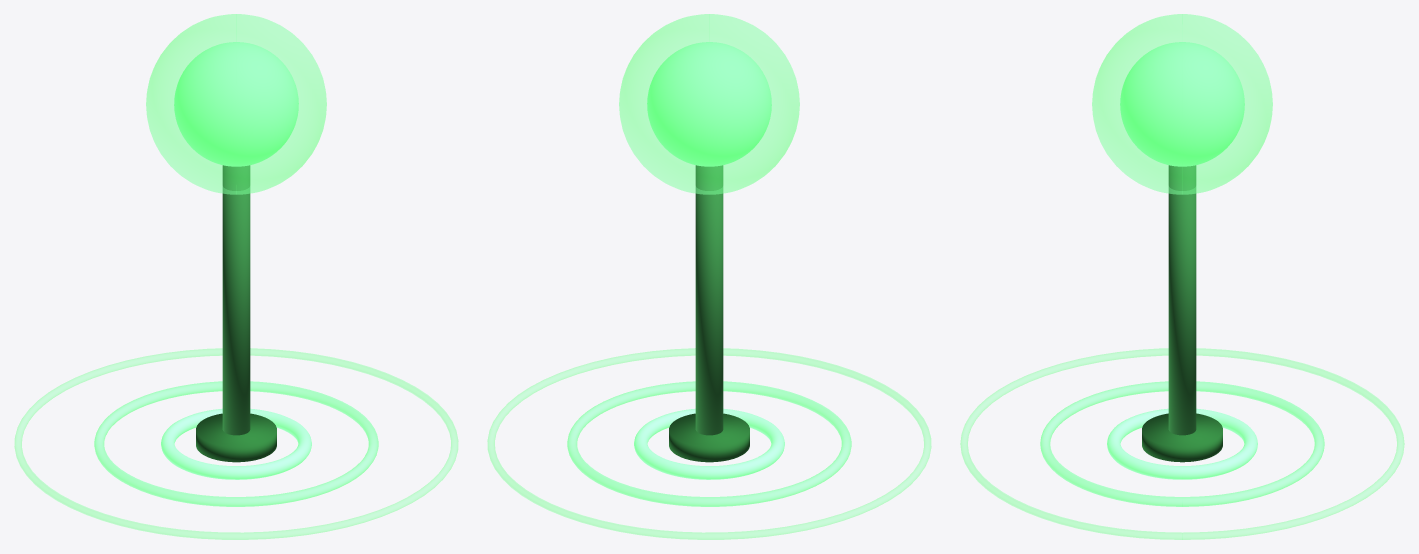
The model's file is map-pin-green.glb.
3 renders of one model, left to right at view 1: azimuth 30°, elevation 25°; view 2: azimuth 150°, elevation 25°; view 3: azimuth 270°, elevation 25°, orthographic.
Parts seen in each view (by area): view 1: Glow, Cap, Pulse2, Column, Pulse1, Pulse0, Base; view 2: Glow, Cap, Pulse2, Column, Pulse1, Pulse0, Base; view 3: Glow, Cap, Pulse2, Column, Pulse1, Pulse0, Base.
Boxes of the visible parts, bbox=[...] form: Glow: bbox=[146, 14, 326, 194]; Cap: bbox=[174, 42, 298, 166]; Pulse2: bbox=[14, 348, 458, 539]; Column: bbox=[222, 165, 250, 435]; Pulse1: bbox=[94, 381, 378, 506]; Pulse0: bbox=[161, 408, 311, 479]; Base: bbox=[196, 413, 276, 462]; Glow: bbox=[619, 14, 799, 194]; Cap: bbox=[647, 42, 771, 166]; Pulse2: bbox=[487, 348, 931, 539]; Column: bbox=[695, 165, 723, 435]; Pulse1: bbox=[567, 381, 851, 506]; Pulse0: bbox=[634, 408, 784, 479]; Base: bbox=[669, 413, 749, 462]; Glow: bbox=[1092, 14, 1272, 194]; Cap: bbox=[1120, 42, 1244, 166]; Pulse2: bbox=[960, 348, 1404, 539]; Column: bbox=[1168, 165, 1196, 435]; Pulse1: bbox=[1040, 381, 1324, 506]; Pulse0: bbox=[1107, 408, 1257, 479]; Base: bbox=[1142, 413, 1222, 462].
Bounding box in the file's own units: 1.42 × 1.51 × 1.42.
